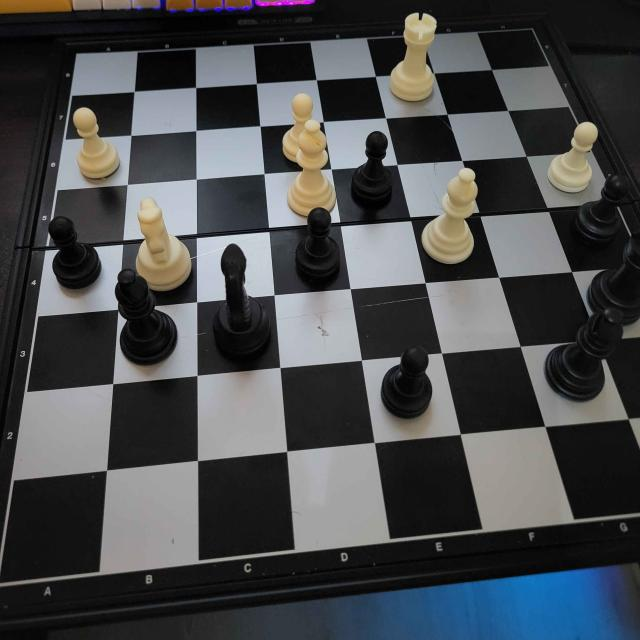black-bishop: (539, 306, 628, 408), (111, 268, 181, 368)
black-knight: (210, 241, 273, 371)
black-pawn: (373, 340, 438, 425), (572, 165, 634, 253), (289, 206, 345, 289), (46, 211, 102, 292), (346, 128, 396, 214)
chess-board: (2, 20, 640, 608)
white-bishop: (421, 166, 480, 269), (286, 121, 341, 218)
white-knight: (130, 196, 196, 301)
white-pawn: (545, 118, 602, 199), (67, 103, 123, 185), (279, 90, 317, 156)
white-rook: (387, 8, 442, 107)
